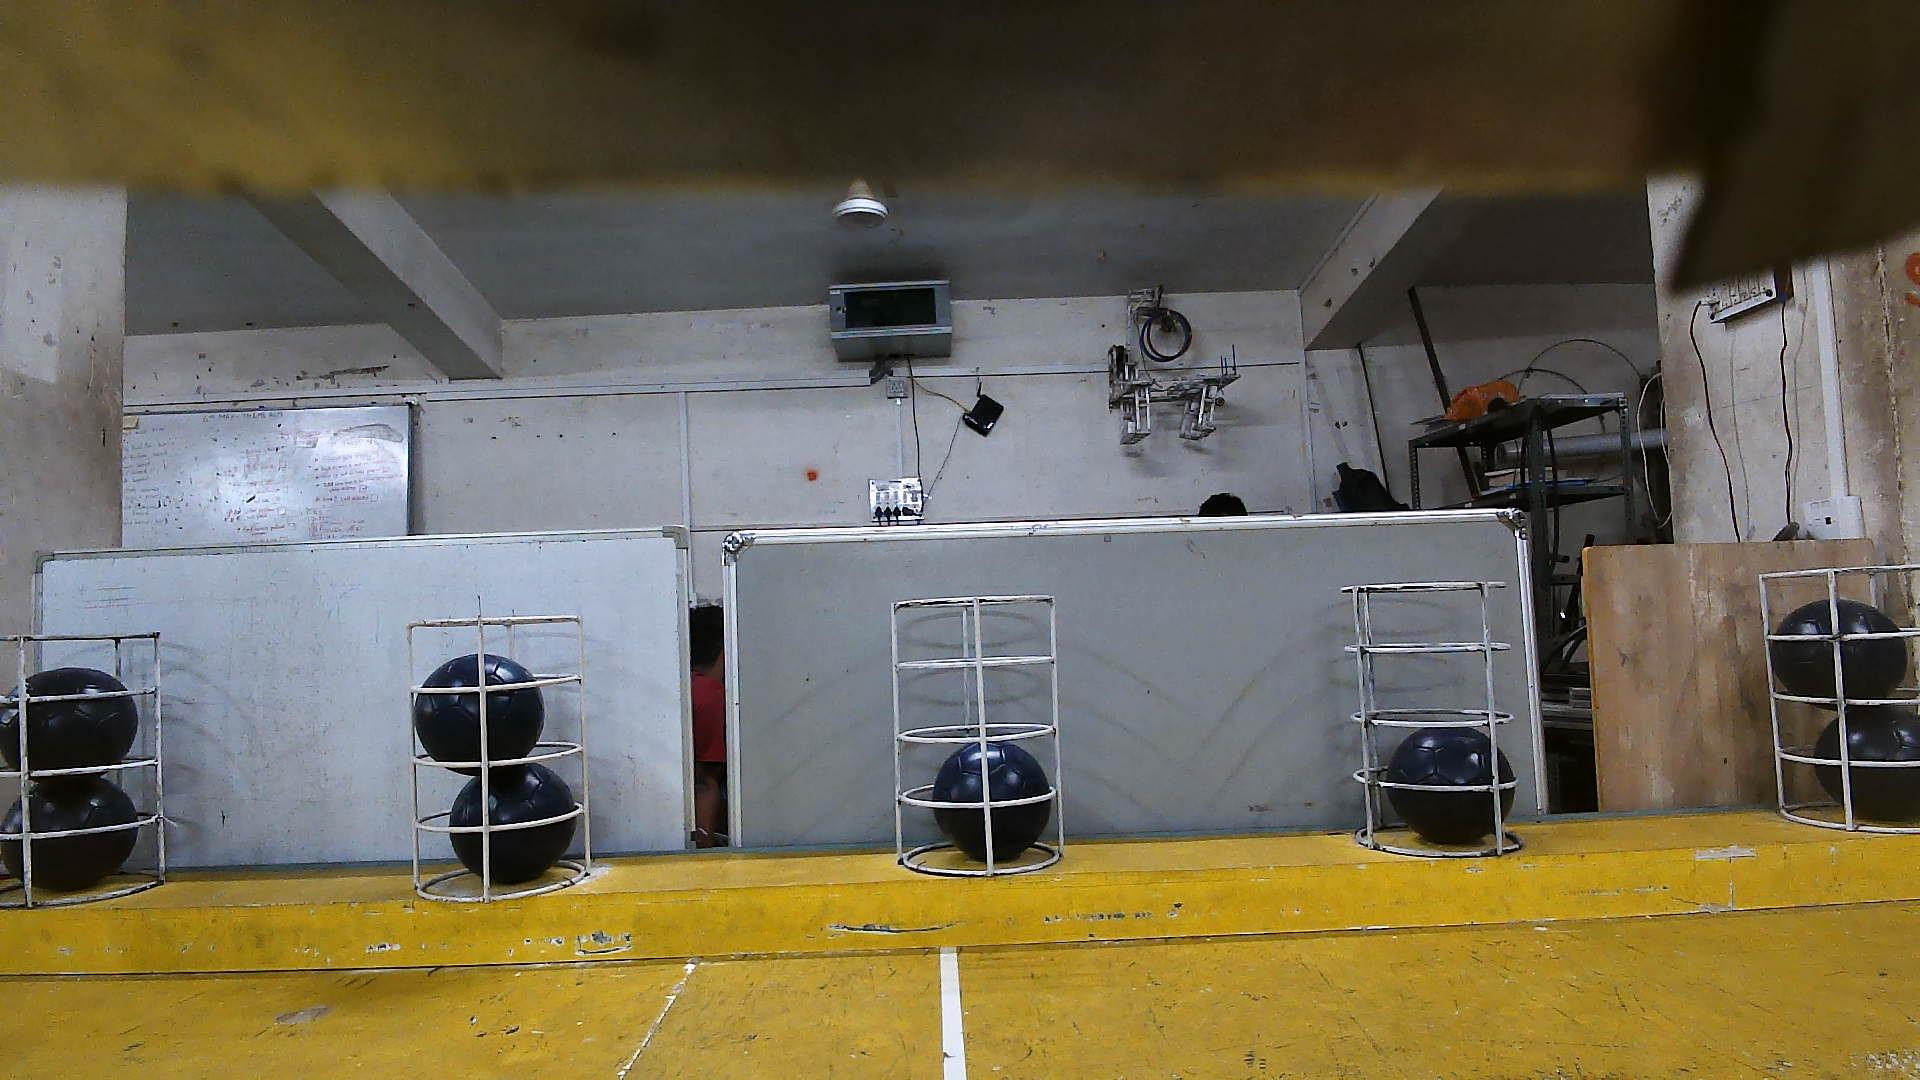dhoka: (0, 669, 138, 783), (415, 654, 545, 777), (0, 777, 138, 890), (448, 764, 575, 885), (1774, 599, 1907, 711), (1386, 728, 1515, 843), (932, 742, 1052, 864), (1815, 709, 1920, 822)
